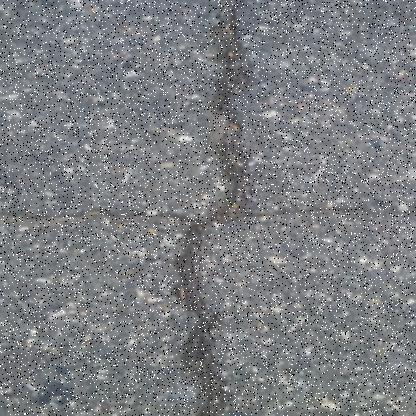Cracks: (163, 0, 282, 415), (0, 200, 416, 227)
